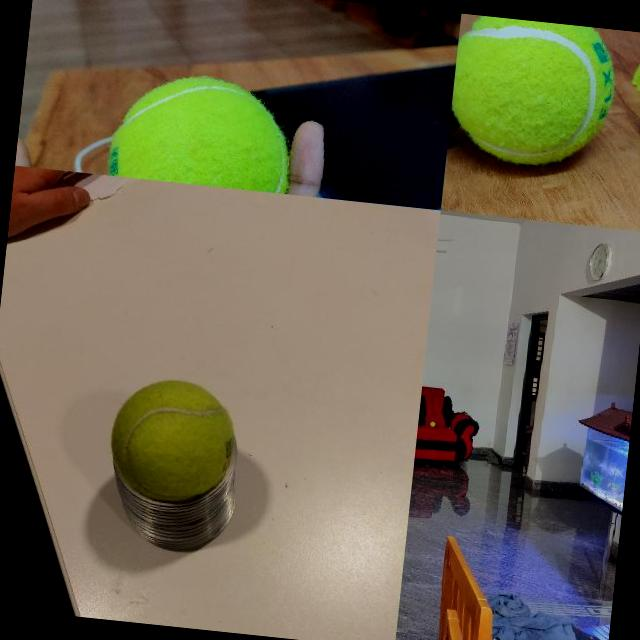Tennis Ball: (446, 13, 619, 172), (107, 68, 296, 192), (103, 373, 240, 508), (430, 422, 435, 426)
